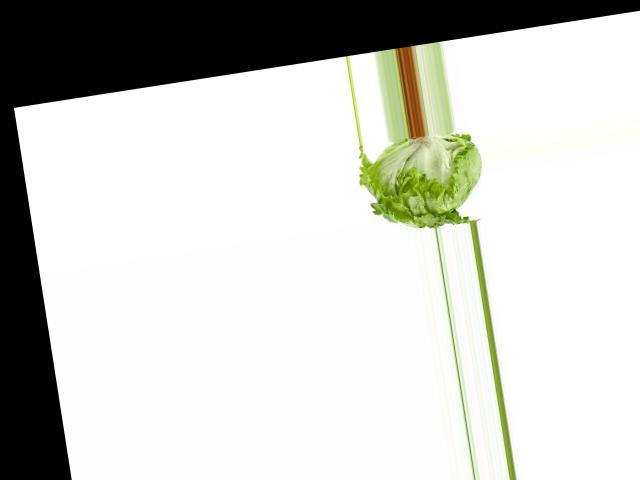lettuce: (349, 126, 494, 238)
